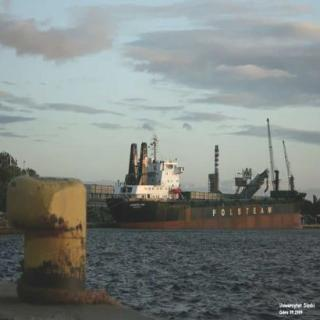Bulk Carrier: (100, 134, 314, 232)
